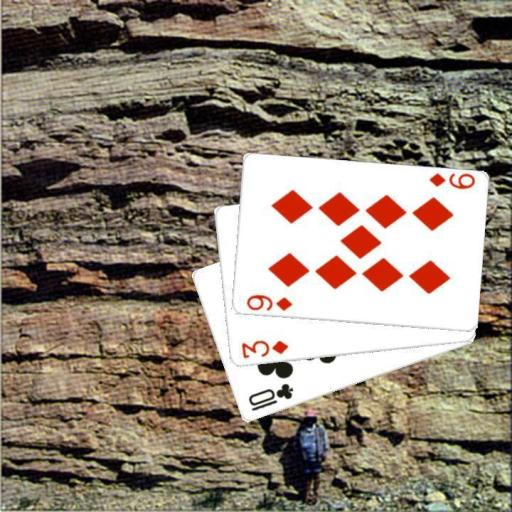card-corner: (245, 381, 295, 413), (238, 338, 290, 360), (242, 291, 294, 313), (426, 170, 476, 191)
